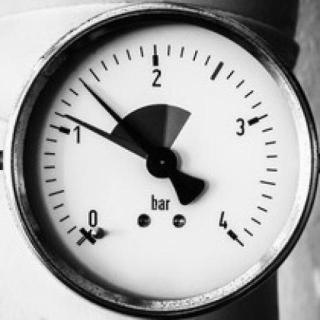gauge: (0, 0, 320, 320), (71, 206, 117, 256), (146, 144, 180, 179), (215, 218, 245, 248), (52, 111, 82, 123), (75, 72, 91, 90)
